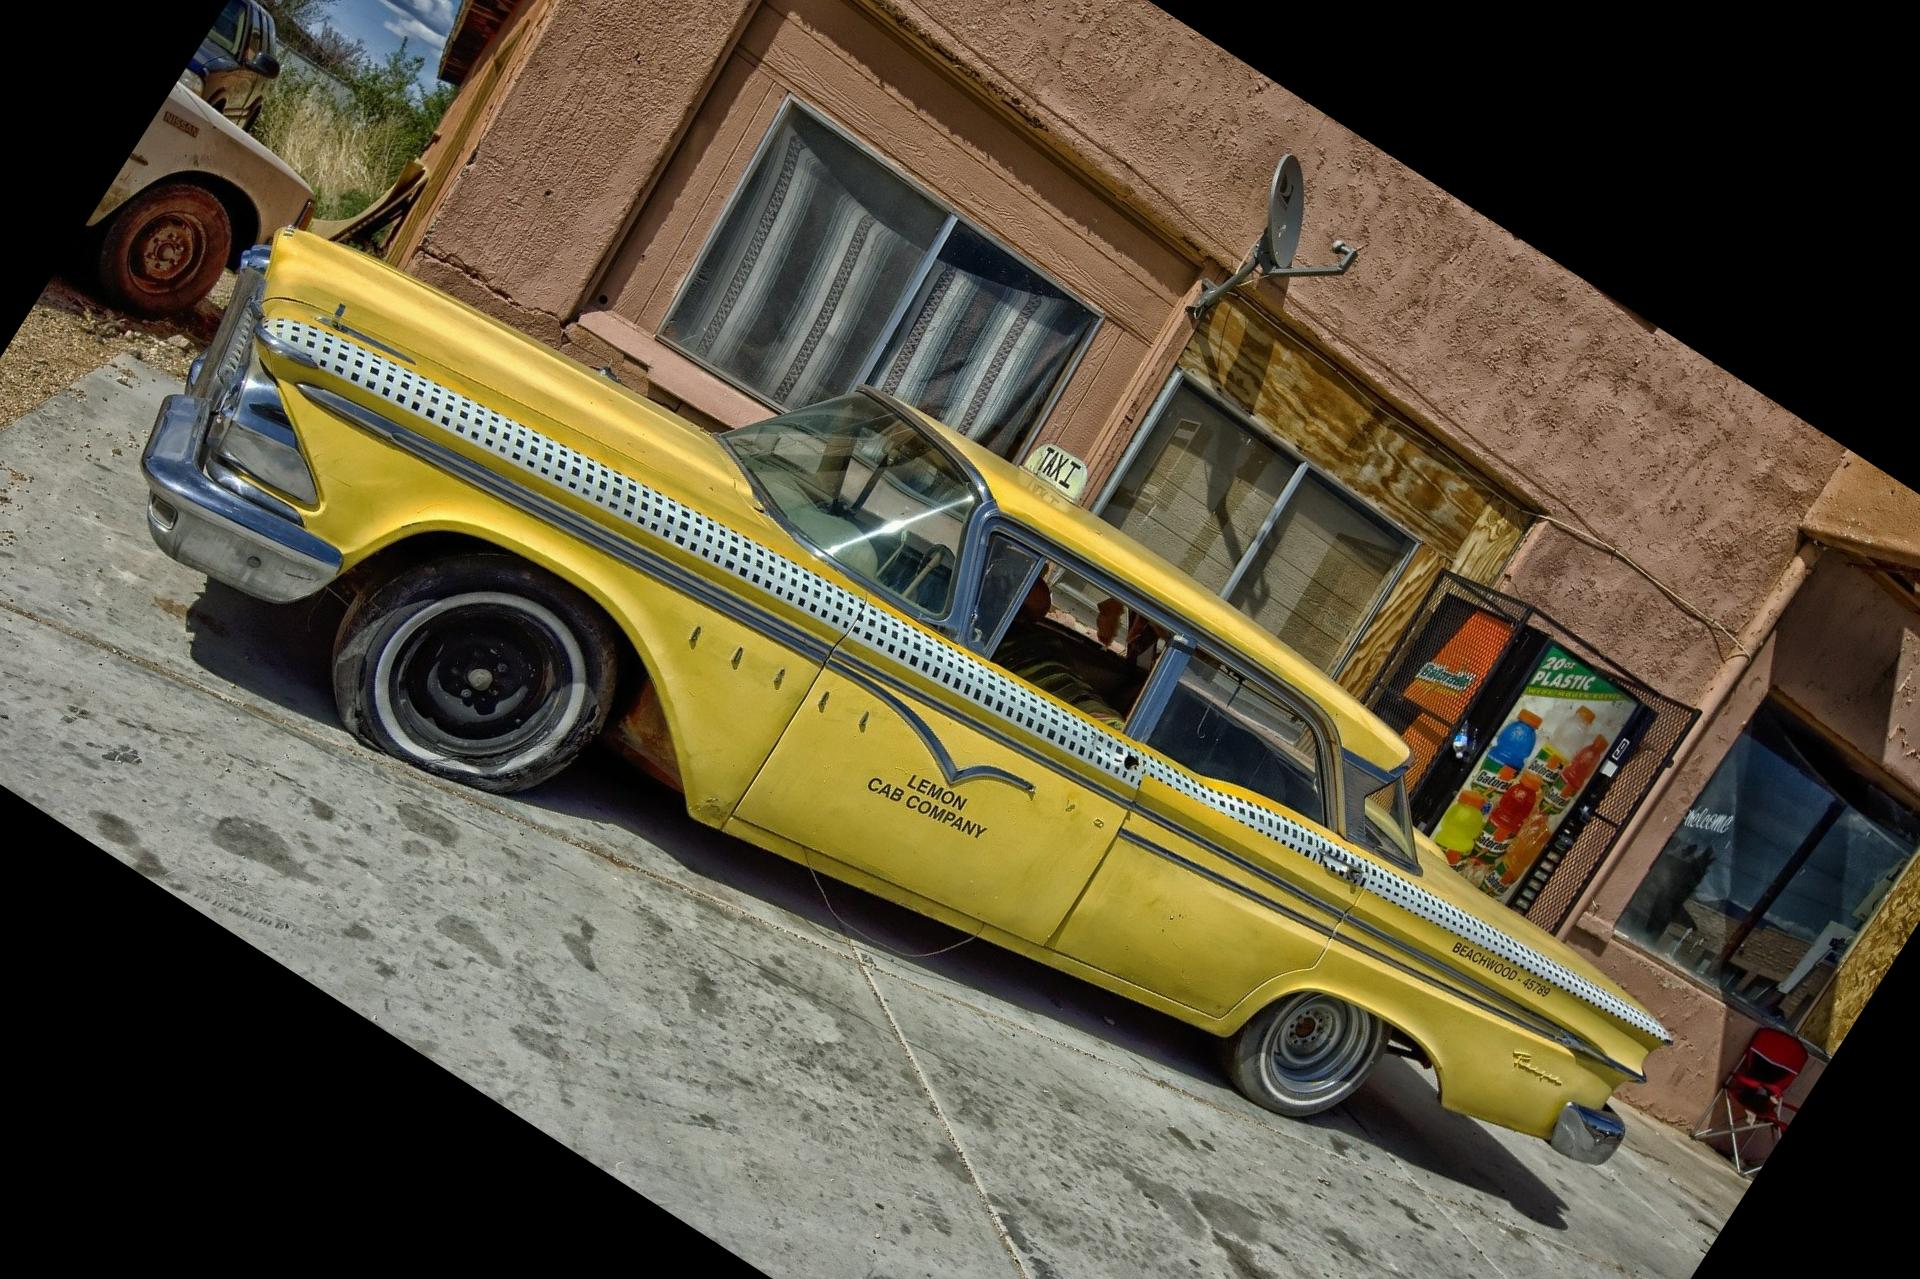taxi: (144, 213, 1667, 1188)
